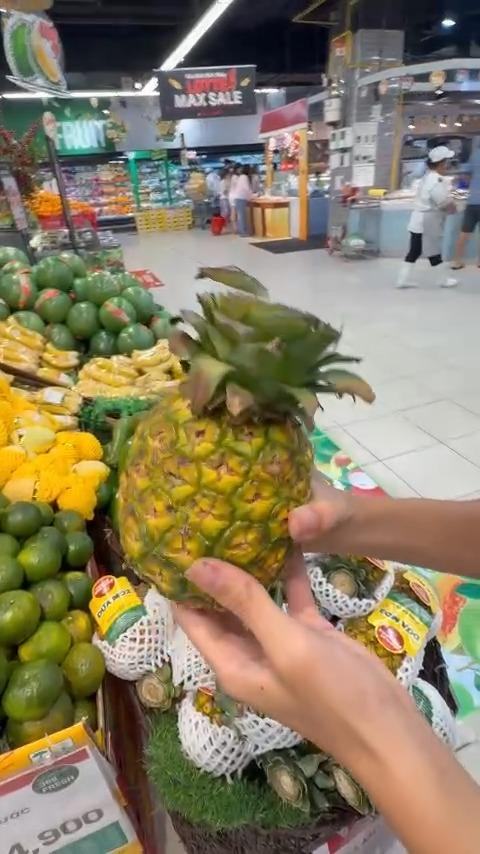pineapple: (107, 292, 305, 604)
